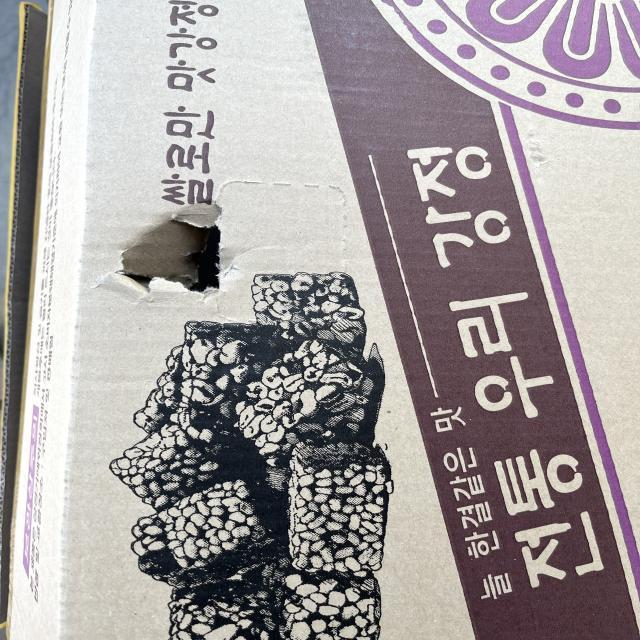hole: (127, 206, 230, 302)
